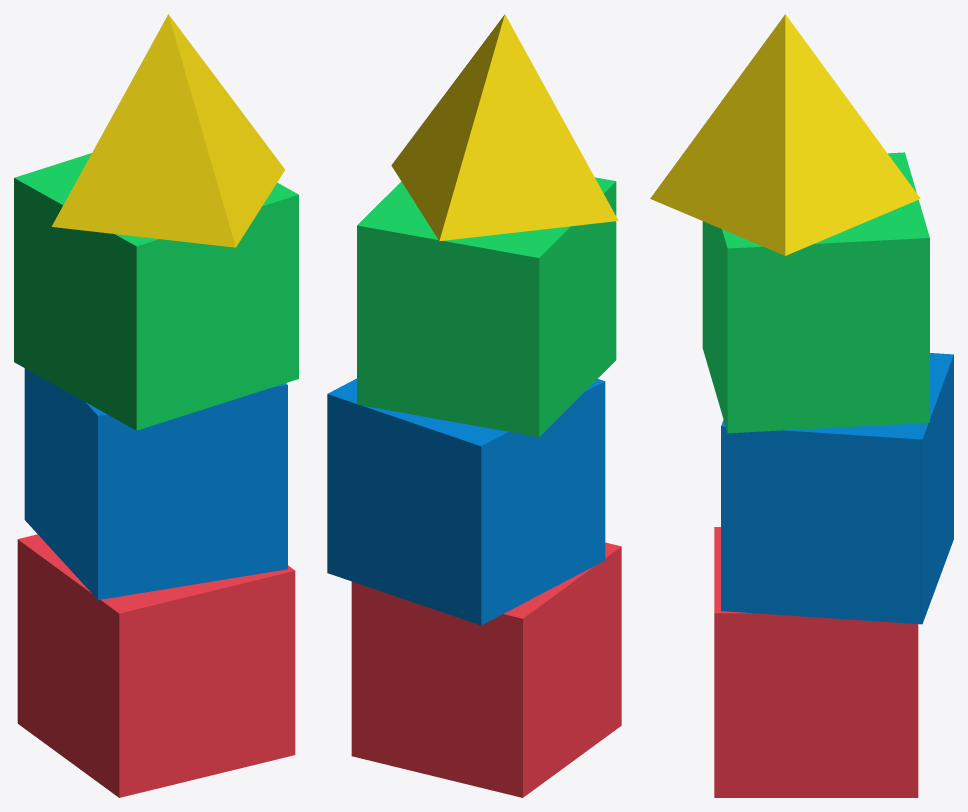
File: map_objects_tower.fbx
3 renders of one model, left to right at view 1: azimuth 30°, elevation 25°; view 2: azimuth 150°, elevation 25°; view 3: azimuth 270°, elevation 25°, orthographic. The views are drawn at different scales.
Visible parts, largest first — view 1: Cube; view 2: Cube; view 3: Cube.
Boxes of the visible parts, x1=… form: Cube: x1=14, y1=14, x2=298, y2=797; Cube: x1=327, y1=14, x2=621, y2=797; Cube: x1=650, y1=14, x2=953, y2=797.
Bounding box in the file's own units: 266 × 800 × 298.
